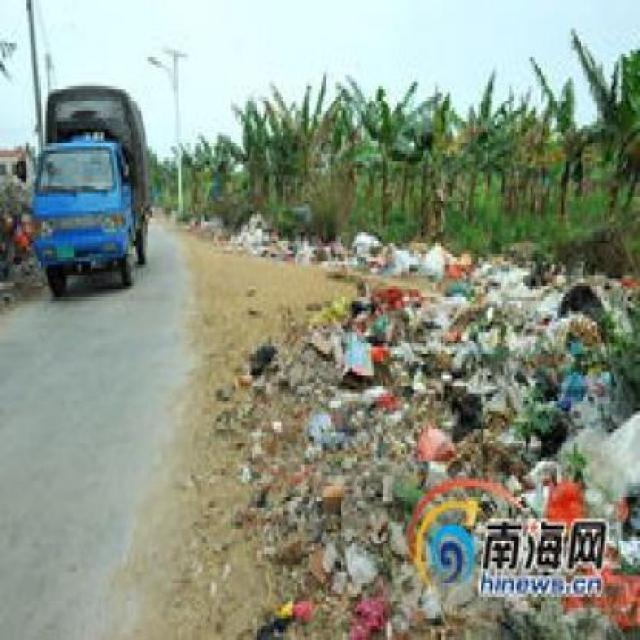garbage: (340, 308, 628, 472), (351, 232, 456, 286)
